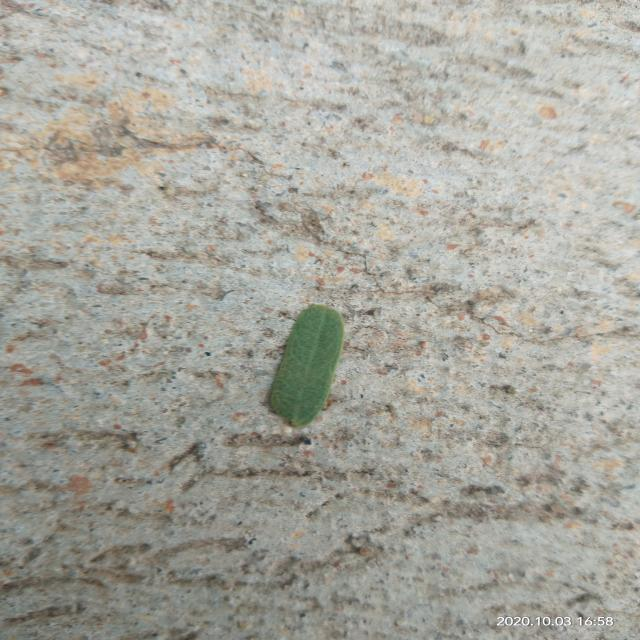tamarind: (270, 305, 343, 428)
